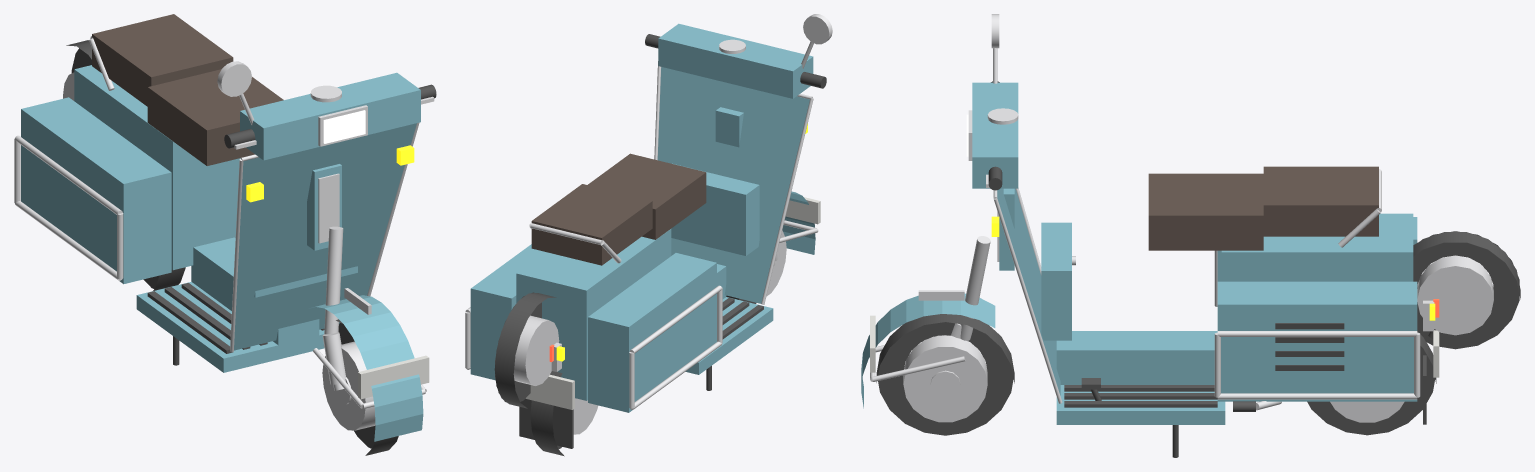
Rendered from scooter.glb.
3 renders of one model, left to right at view 1: azimuth 30°, elevation 25°; view 2: azimuth 150°, elevation 25°; view 3: azimuth 270°, elevation 25°, orthographic. The views are drawn at different scales.
Parts seen in each view (by area): view 1: Indian_Scooter; view 2: Indian_Scooter; view 3: Indian_Scooter.
Boxes of the visible parts, x1,y1,x2,y2 form: Indian_Scooter: [14, 14, 436, 455]; Indian_Scooter: [465, 14, 832, 456]; Indian_Scooter: [861, 14, 1520, 457].
Size of the model in its own units: 0.639 by 1.09 by 1.72.
